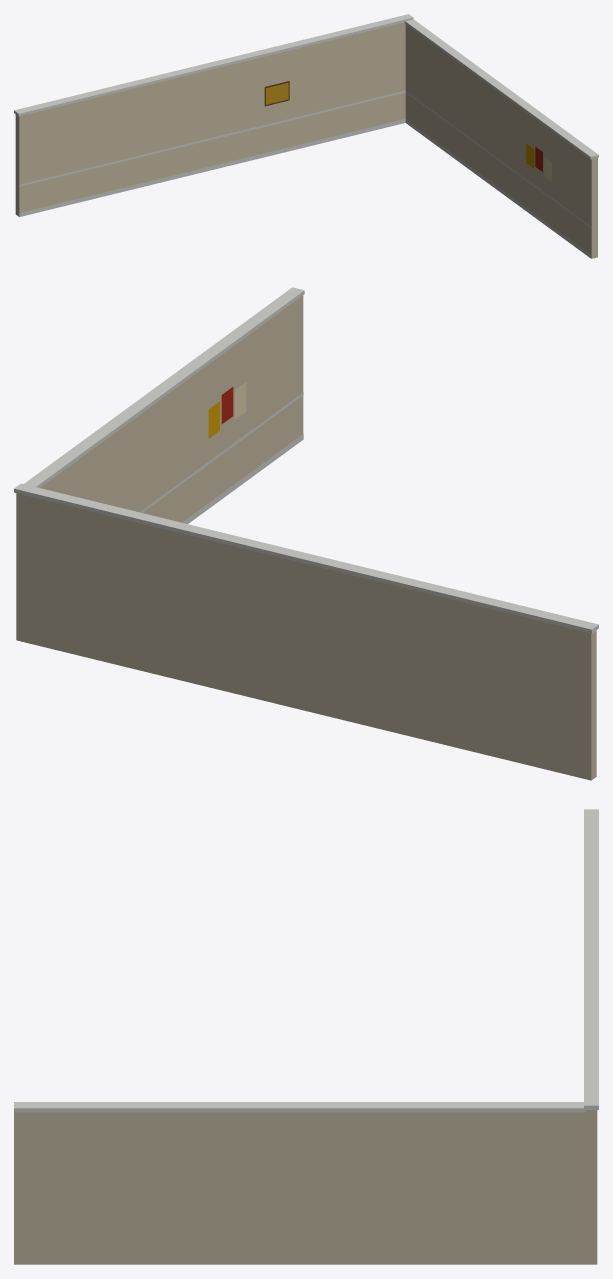
File: bld_room_abroad.glb
The picture shows the model from 3 angles, top to bottom: view 1: azimuth 30°, elevation 25°; view 2: azimuth 150°, elevation 25°; view 3: azimuth 270°, elevation 25°; orthographic projection. The views are drawn at different scales.
Parts seen in each view (by area): view 1: body; view 2: body; view 3: body.
Boxes of the visible parts, left/top/right/bottom form: body: left=14, top=14, right=598, bottom=258; body: left=14, top=287, right=598, bottom=780; body: left=14, top=809, right=598, bottom=1264.
Bounding box in the file's own units: 12.26 × 3.08 × 10.23.
